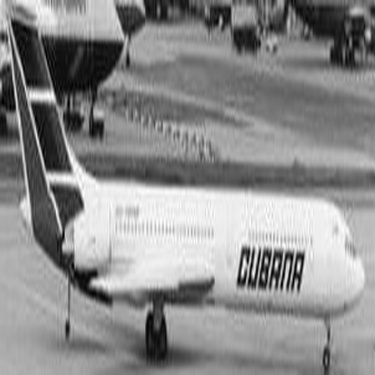airplane: (3, 1, 370, 372), (2, 3, 129, 155), (92, 1, 157, 84)
